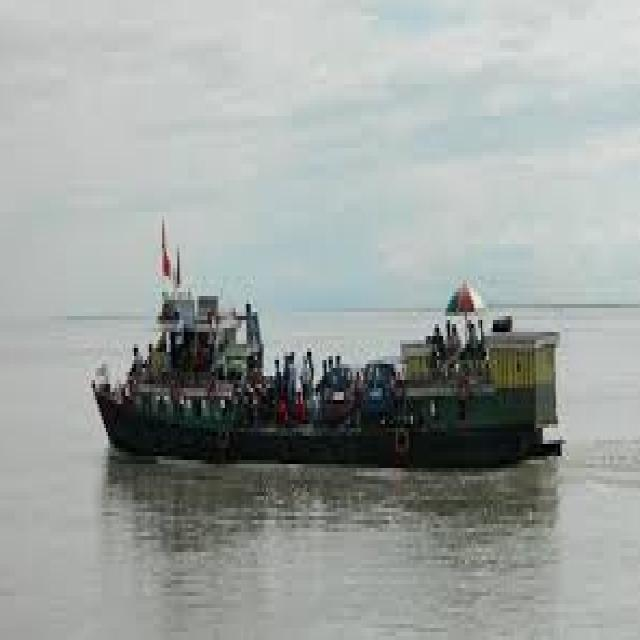fishing boat: (89, 240, 564, 463)
